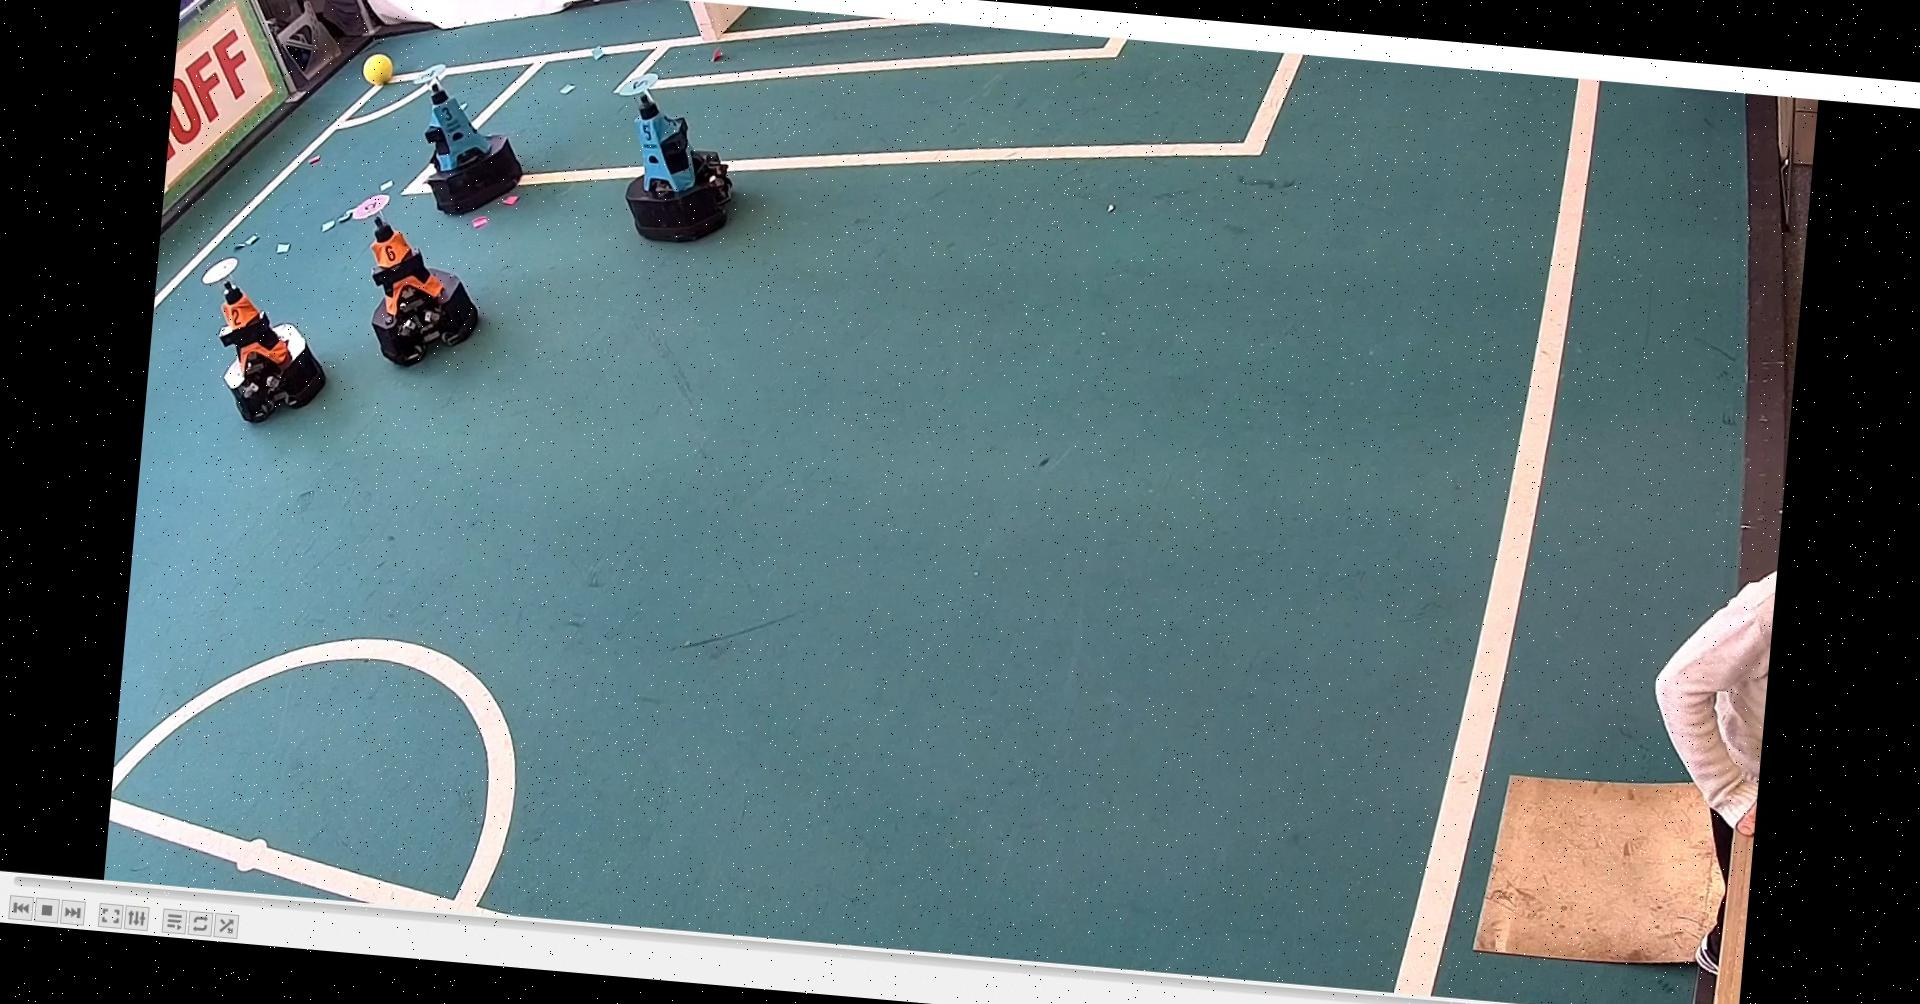Ball: (367, 51, 405, 86)
Team_Blue: (603, 60, 758, 253), (395, 56, 538, 223)
Team_Red: (334, 182, 495, 371), (187, 249, 339, 433)
